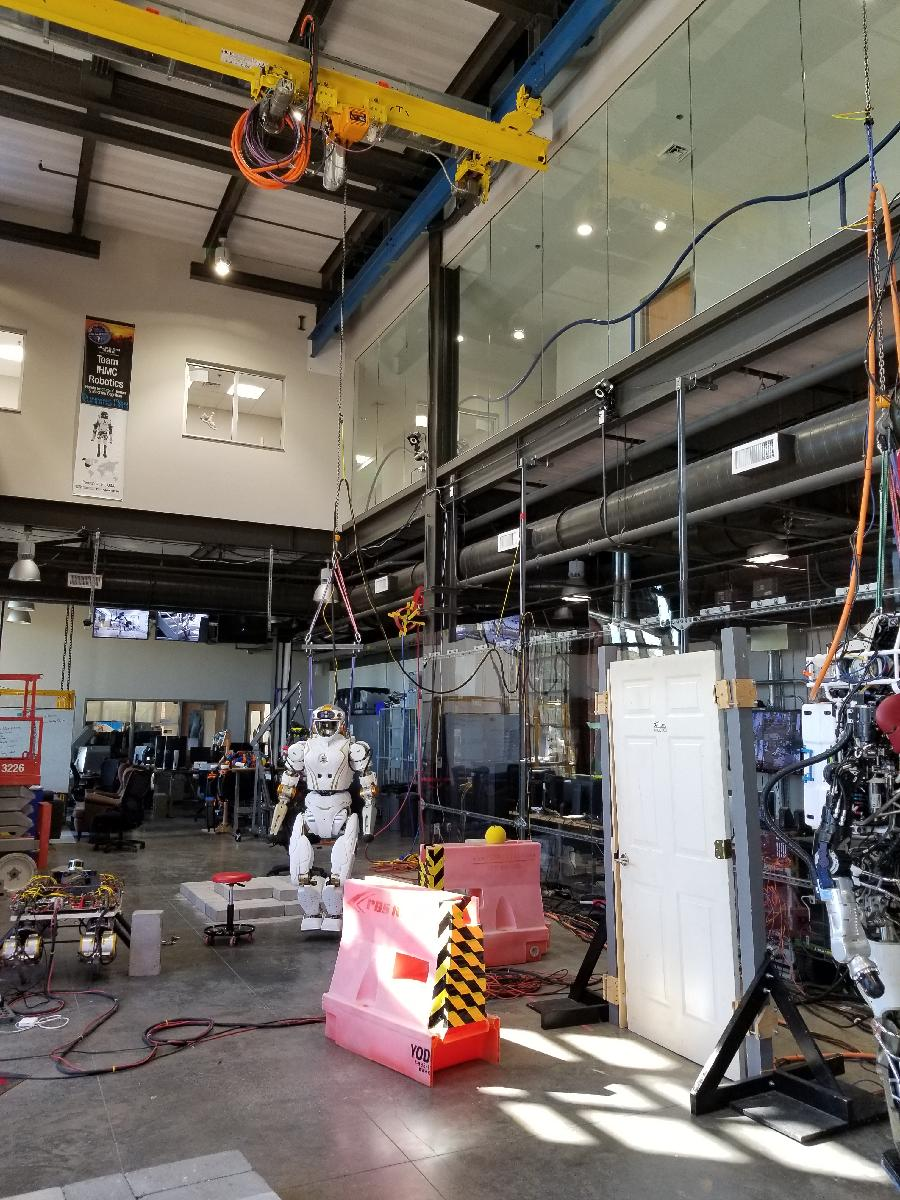door: (610, 647, 746, 1092)
doorHandle: (616, 851, 633, 866)
